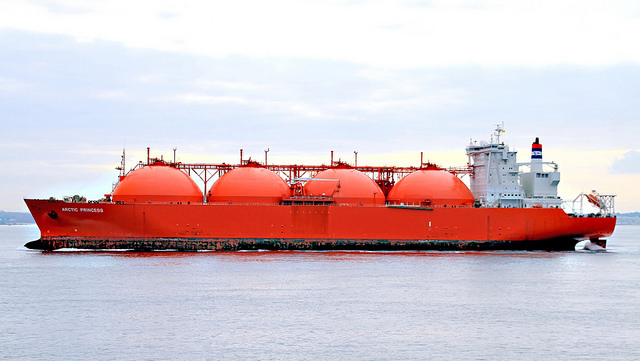LNG_ship: (19, 124, 623, 252)
